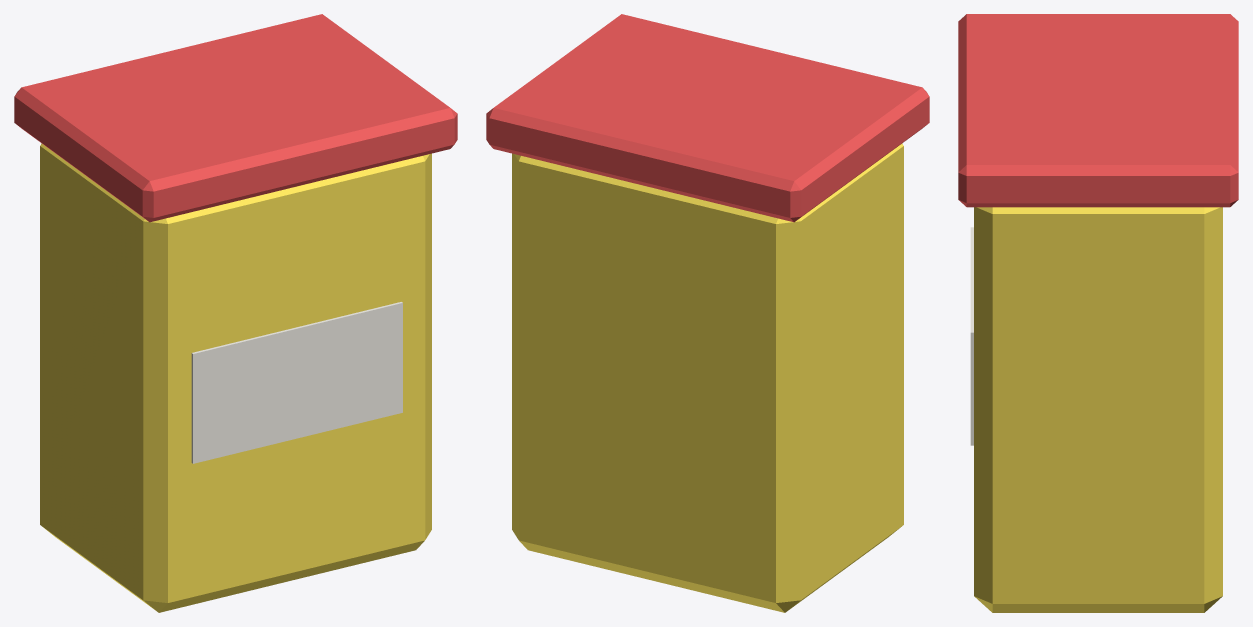
File: sharps_bin.glb
3 renders of one model, left to right at view 1: azimuth 30°, elevation 25°; view 2: azimuth 150°, elevation 25°; view 3: azimuth 270°, elevation 25°, orthographic. The views are drawn at different scales.
Parts seen in each view (by area): view 1: sharps_bin; view 2: sharps_bin; view 3: sharps_bin.
Part boxes in pixels (x1,y1,x2,y2): sharps_bin: [14, 14, 457, 612]; sharps_bin: [486, 14, 929, 612]; sharps_bin: [958, 14, 1238, 612].
Bounding box in the file's own units: 0.24 × 0.325 × 0.18.
